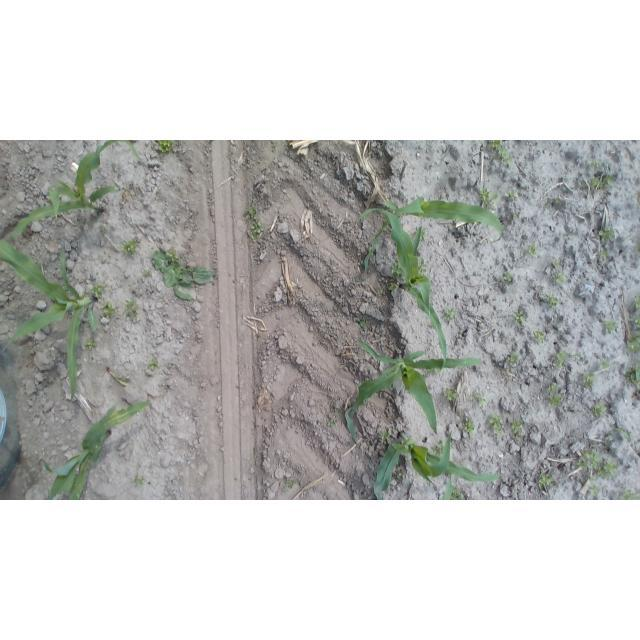Maize: (0, 235, 98, 400), (343, 337, 487, 447), (352, 192, 506, 284), (356, 209, 448, 360), (0, 140, 138, 240), (43, 400, 154, 501), (374, 428, 503, 496)
Weeds: (152, 245, 216, 300), (490, 140, 512, 164), (575, 449, 599, 471), (123, 299, 142, 321), (121, 237, 140, 259), (247, 221, 265, 244), (488, 412, 504, 437), (480, 188, 499, 209), (591, 174, 614, 191), (536, 472, 556, 491), (552, 349, 569, 369), (599, 459, 617, 477), (625, 363, 640, 384), (511, 418, 524, 442), (598, 225, 615, 243), (156, 140, 175, 156), (626, 332, 640, 353), (378, 426, 395, 443), (602, 318, 618, 336), (101, 301, 116, 320), (462, 418, 477, 436), (591, 402, 609, 417), (443, 387, 459, 403), (245, 205, 260, 222), (615, 426, 632, 441), (282, 474, 297, 490), (131, 471, 146, 487), (524, 243, 540, 258), (582, 372, 597, 388), (546, 393, 562, 408), (618, 489, 639, 500), (90, 283, 104, 299), (471, 392, 487, 406), (546, 292, 560, 308), (545, 195, 561, 209), (444, 306, 457, 323), (532, 330, 546, 345), (389, 263, 403, 278), (148, 356, 161, 372), (514, 309, 527, 325), (587, 482, 601, 496), (83, 337, 97, 351), (96, 223, 110, 237), (508, 350, 520, 366), (430, 442, 446, 454), (327, 412, 338, 429), (505, 188, 518, 201), (451, 489, 466, 500), (598, 247, 609, 262), (416, 227, 427, 242), (631, 296, 640, 314), (552, 272, 566, 283), (629, 317, 640, 330), (600, 358, 611, 370), (502, 271, 513, 283), (357, 316, 367, 329), (387, 282, 398, 293), (418, 258, 427, 271), (551, 258, 562, 268), (533, 290, 543, 300), (591, 159, 601, 169), (548, 383, 558, 392), (573, 352, 583, 361), (142, 268, 150, 276), (270, 140, 278, 148), (605, 432, 613, 440), (396, 472, 403, 481), (512, 213, 519, 221), (636, 241, 640, 254), (562, 234, 570, 238)
